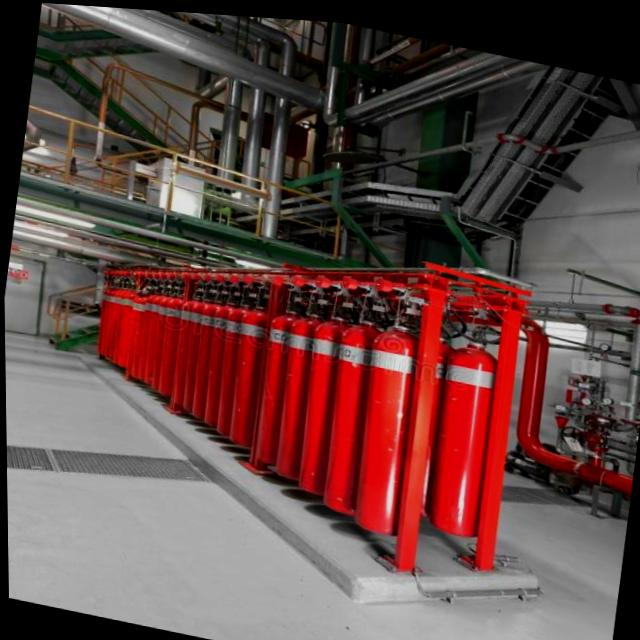FireExtinguisher: (335, 293, 455, 546), (409, 306, 520, 545), (310, 301, 400, 519), (285, 300, 361, 499), (261, 296, 339, 483), (244, 296, 308, 467), (219, 289, 284, 448)
